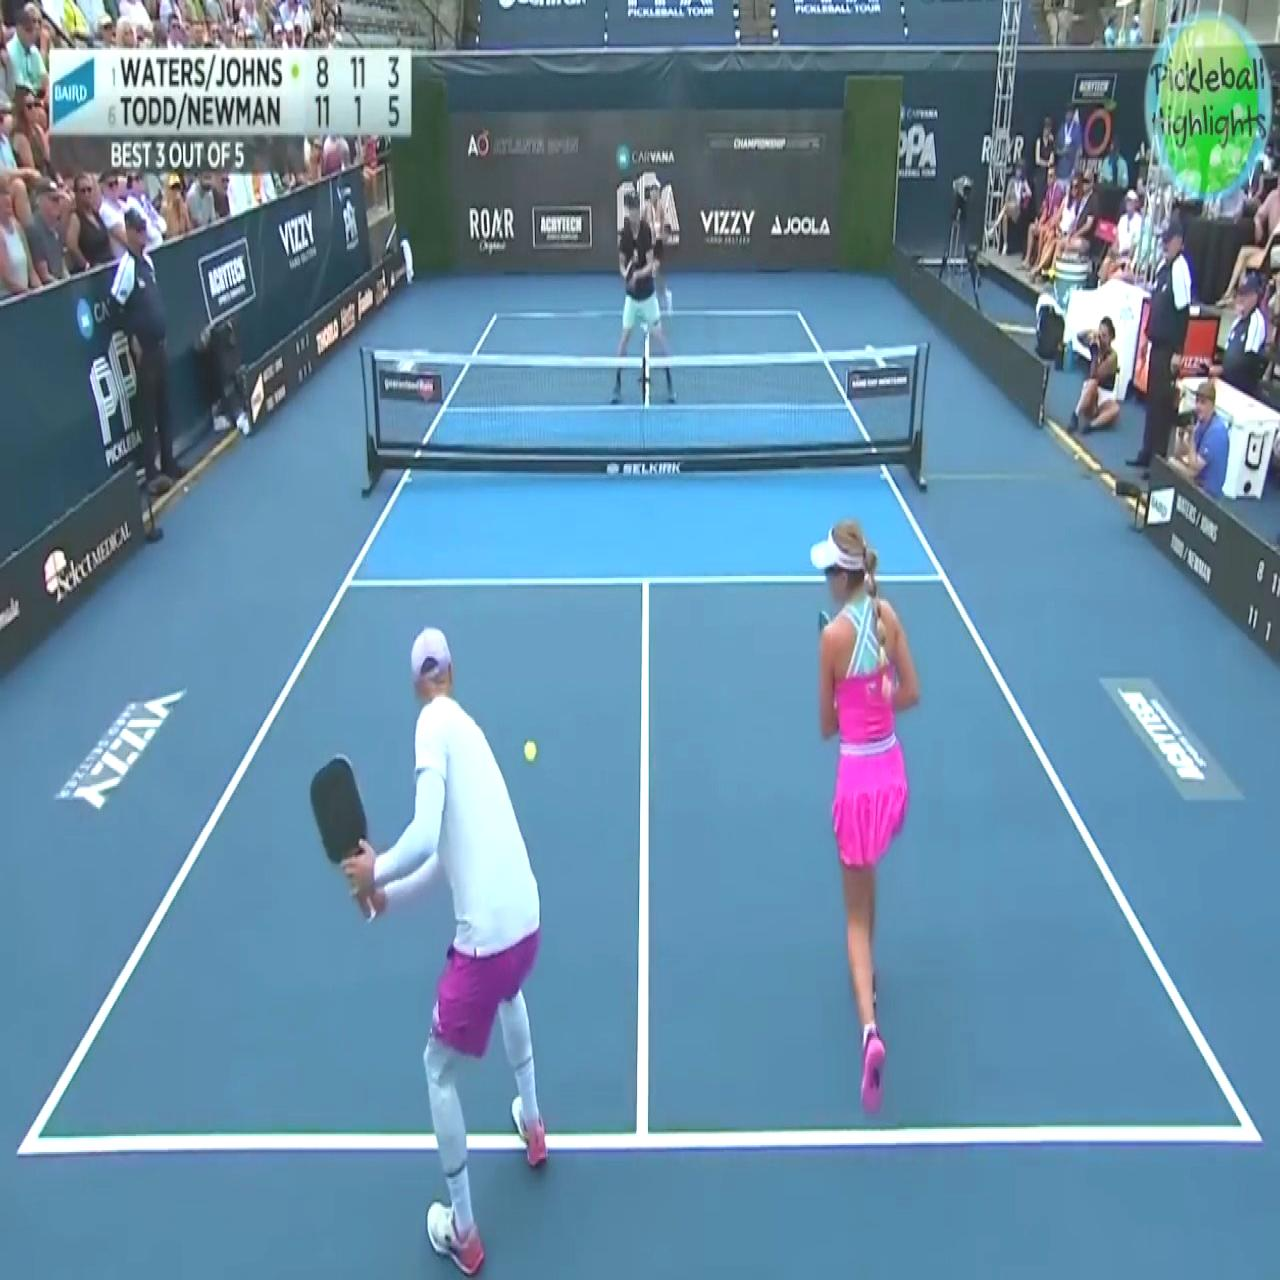Pickleball: (522, 734, 539, 765)
